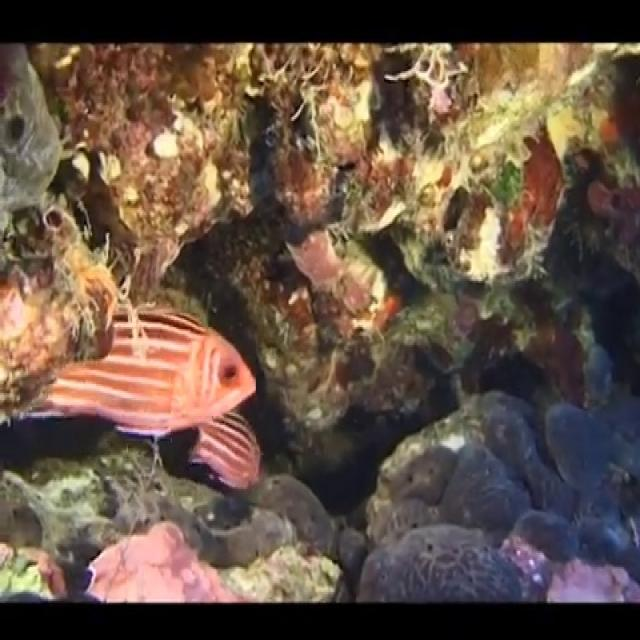Asker Baligi: (7, 298, 264, 492)
